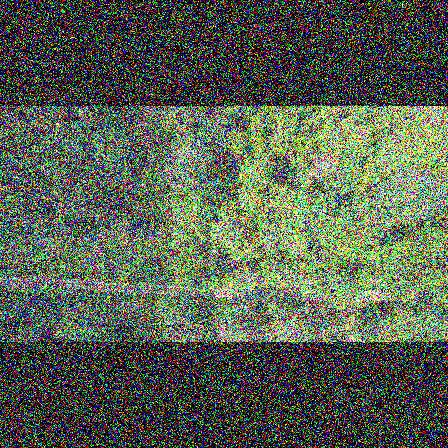Dead: (307, 156, 339, 183)
